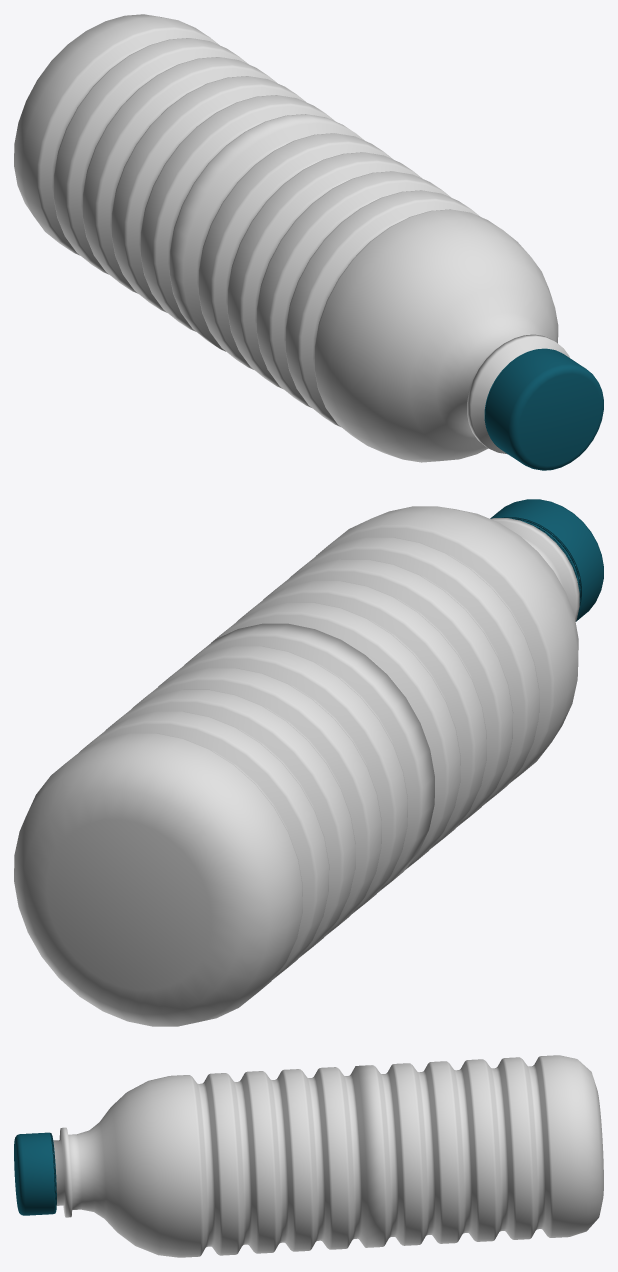
3 renders of one model, top to bottom at view 1: azimuth 30°, elevation 25°; view 2: azimuth 150°, elevation 25°; view 3: azimuth 270°, elevation 25°, orthographic. The views are drawn at different scales.
Parts seen in each view (by area): view 1: Object_2, Object_3; view 2: Object_2, Object_3; view 3: Object_2, Object_3.
Part boxes in pixels (box(x1,y1,x2,y2)): Object_2: box(14, 14, 569, 462); Object_3: box(484, 348, 603, 470); Object_2: box(14, 506, 579, 1026); Object_3: box(490, 499, 603, 621); Object_2: box(53, 1055, 603, 1257); Object_3: box(14, 1132, 56, 1215).
Size of the model in its own units: 10.39 by 9.43 by 29.15.
